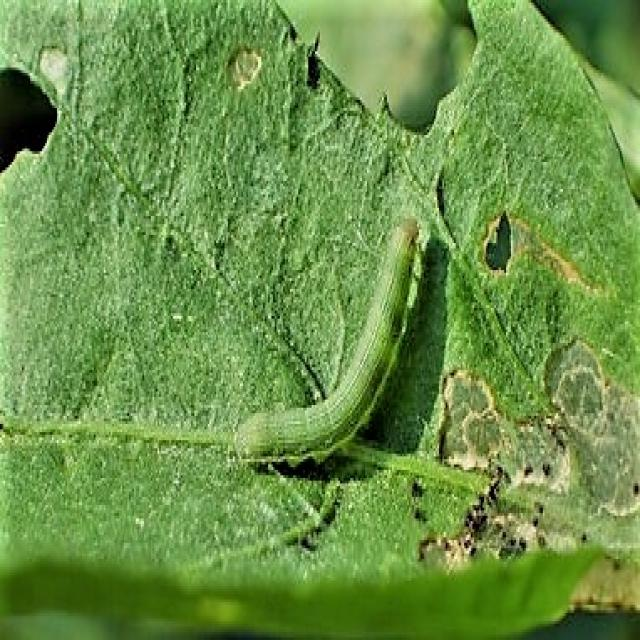armyworm: (224, 212, 446, 480)
